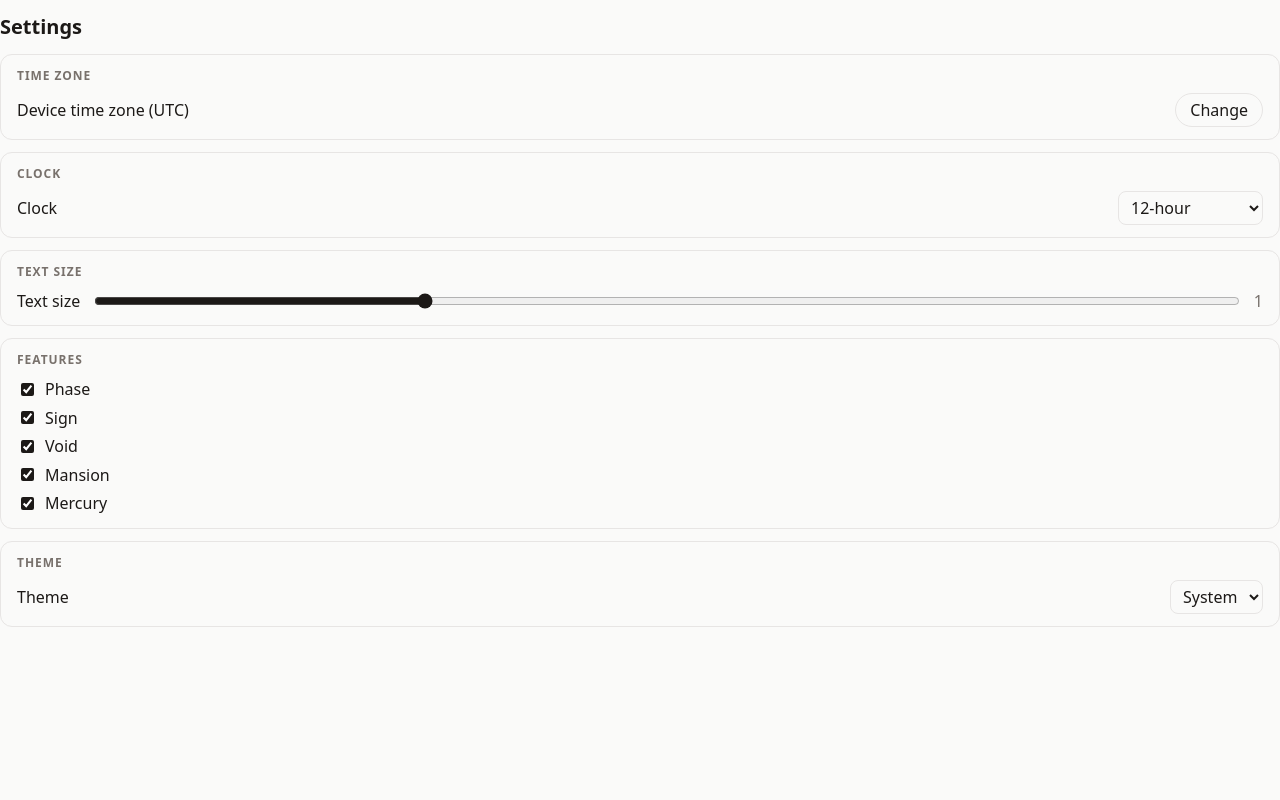
Scenario: a failed save shows a warning and still applies the change
Select "Dark" in the dropdown labelled "Theme" at (1216, 596), box [1170,580,1263,614]
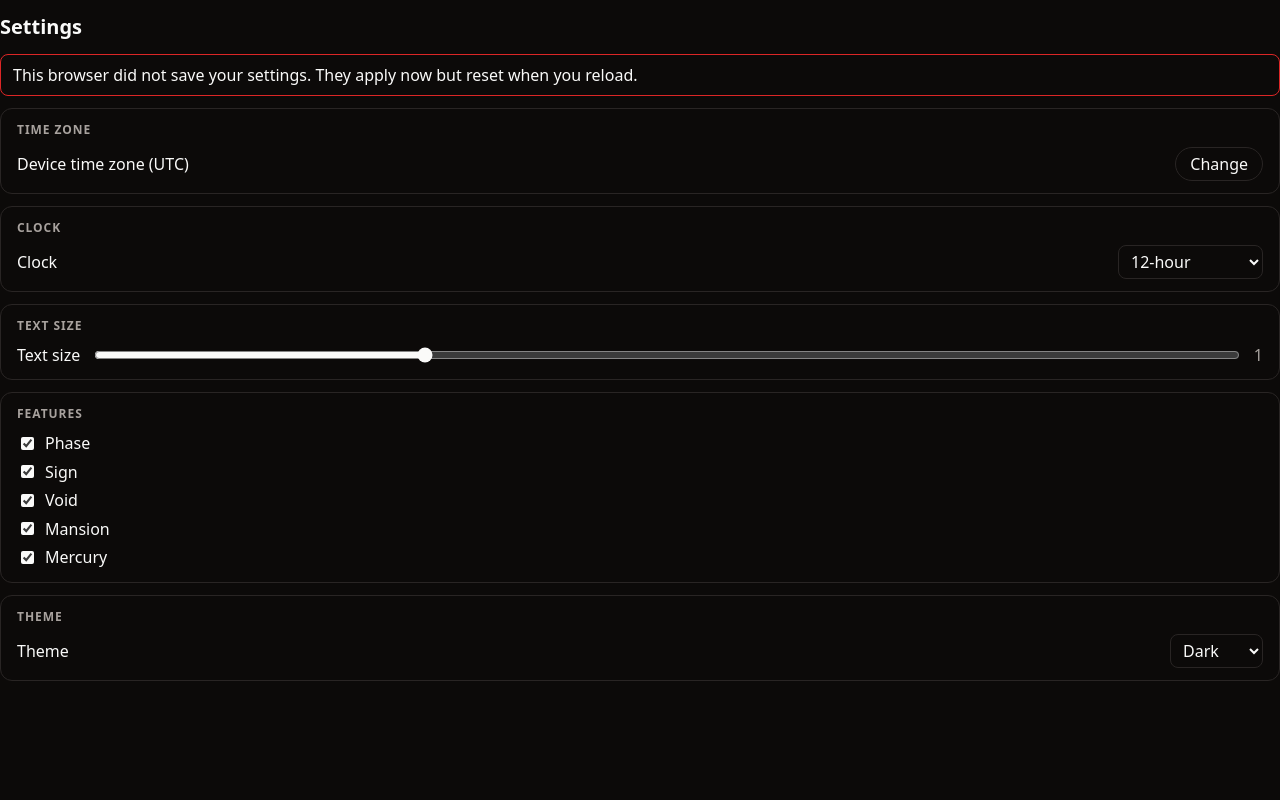
Now the message shows "did not save your settings", box [13,64,638,86]
